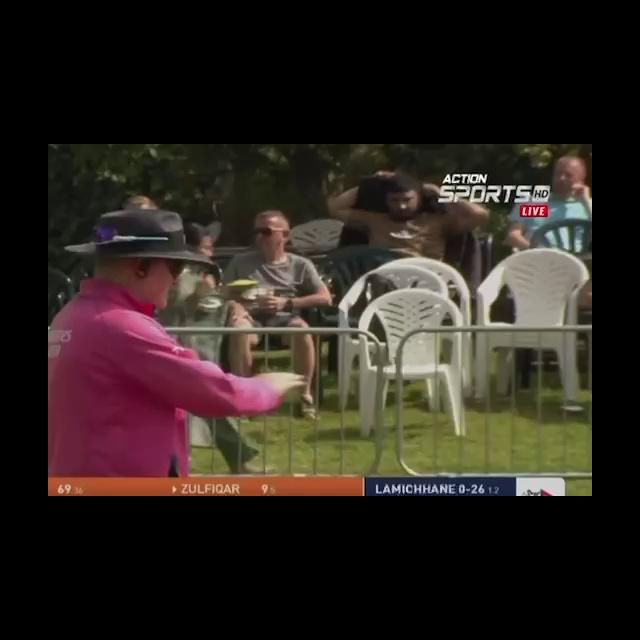umpire: (53, 186, 362, 462)
